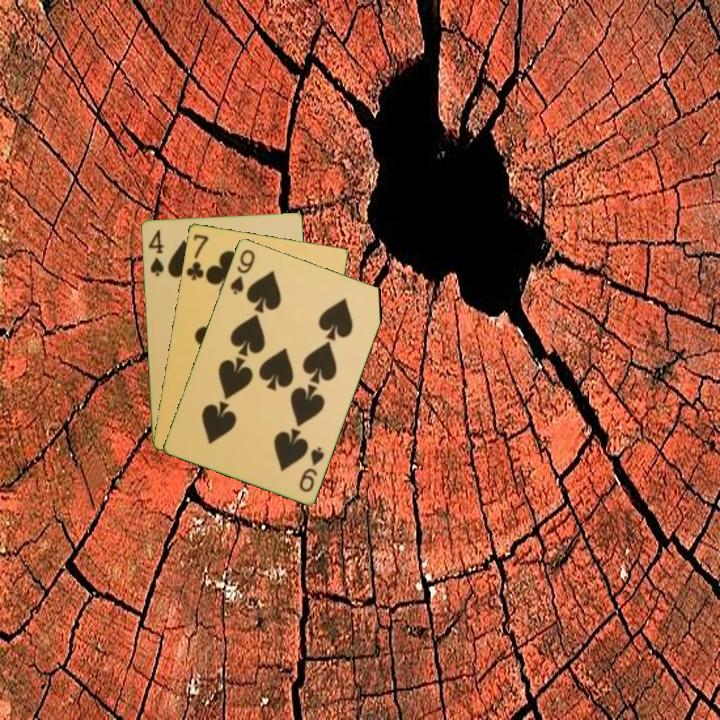4s: (144, 226, 167, 279)
7c: (182, 230, 211, 282)
9s: (226, 245, 258, 297), (295, 443, 327, 495)
